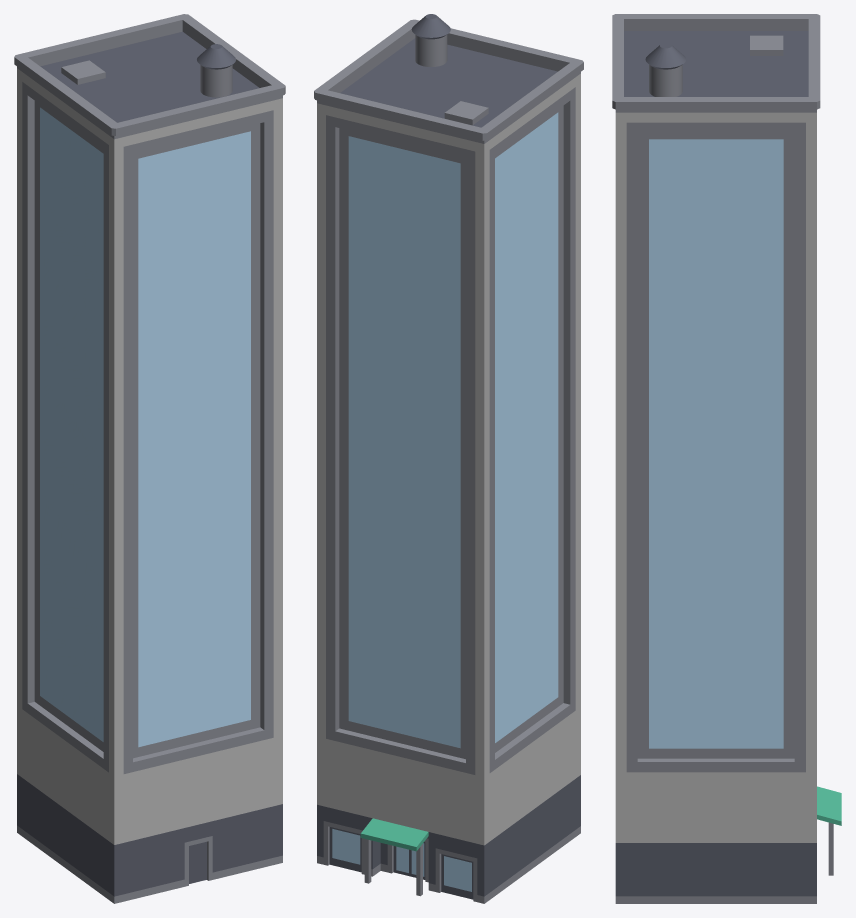
File: skyscraperD.glb
3 renders of one model, left to right at view 1: azimuth 30°, elevation 25°; view 2: azimuth 150°, elevation 25°; view 3: azimuth 270°, elevation 25°, orthographic. The views are drawn at different scales.
Parts seen in each view (by area): view 1: skyscraperD; view 2: skyscraperD; view 3: skyscraperD.
Boxes of the visible parts, bbox=[...] form: skyscraperD: bbox=[14, 14, 285, 903]; skyscraperD: bbox=[314, 14, 583, 903]; skyscraperD: bbox=[612, 14, 841, 903].
Bounding box in the file's own units: 1.24 × 5.5 × 1.37.
